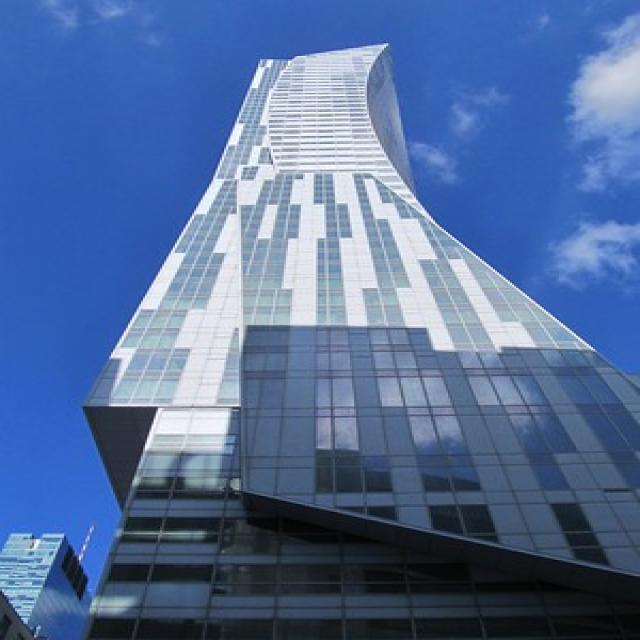Normal_building: (74, 38, 640, 639)
